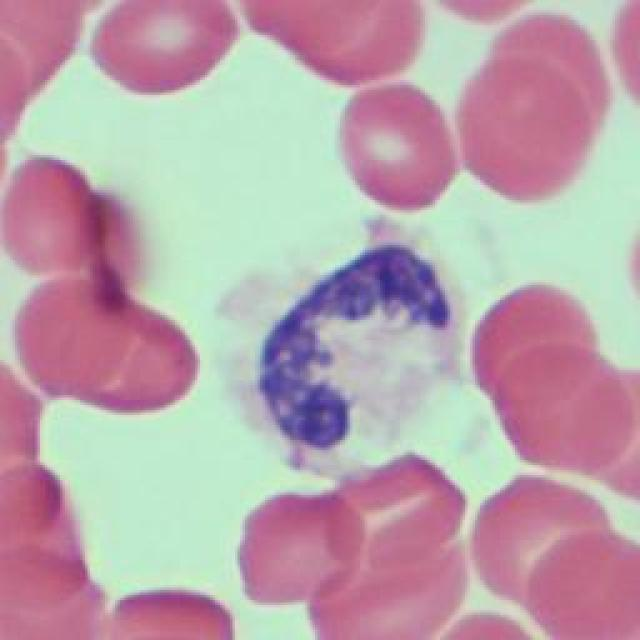RBC: (458, 59, 592, 201), (499, 345, 631, 475), (471, 476, 614, 596), (15, 268, 135, 402), (324, 454, 466, 564), (488, 14, 610, 141), (476, 280, 602, 398), (309, 544, 466, 638), (341, 80, 449, 212), (88, 0, 238, 95), (78, 302, 200, 416), (236, 491, 356, 599), (0, 152, 100, 278), (529, 534, 639, 634), (292, 0, 426, 80), (242, 0, 385, 62), (0, 503, 82, 608), (0, 0, 82, 100), (0, 577, 107, 640), (114, 585, 234, 640), (0, 444, 60, 551), (0, 369, 42, 469), (612, 0, 640, 98), (446, 612, 526, 640)
WBC: (214, 218, 468, 480)
